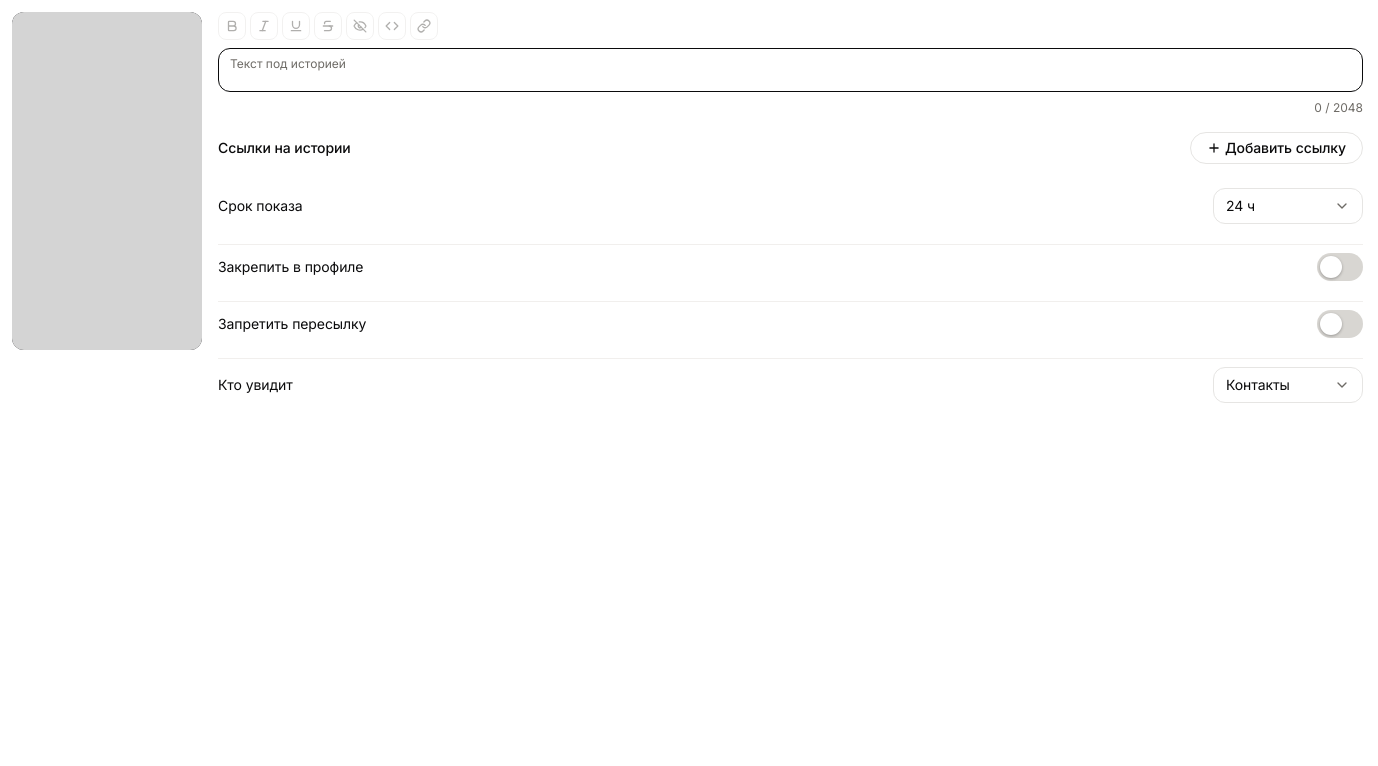
Scenario: stickers: add up to three, then the button stops
Click the button "Добавить ссылку".
click(1276, 148)  # box [1190,132,1363,164]
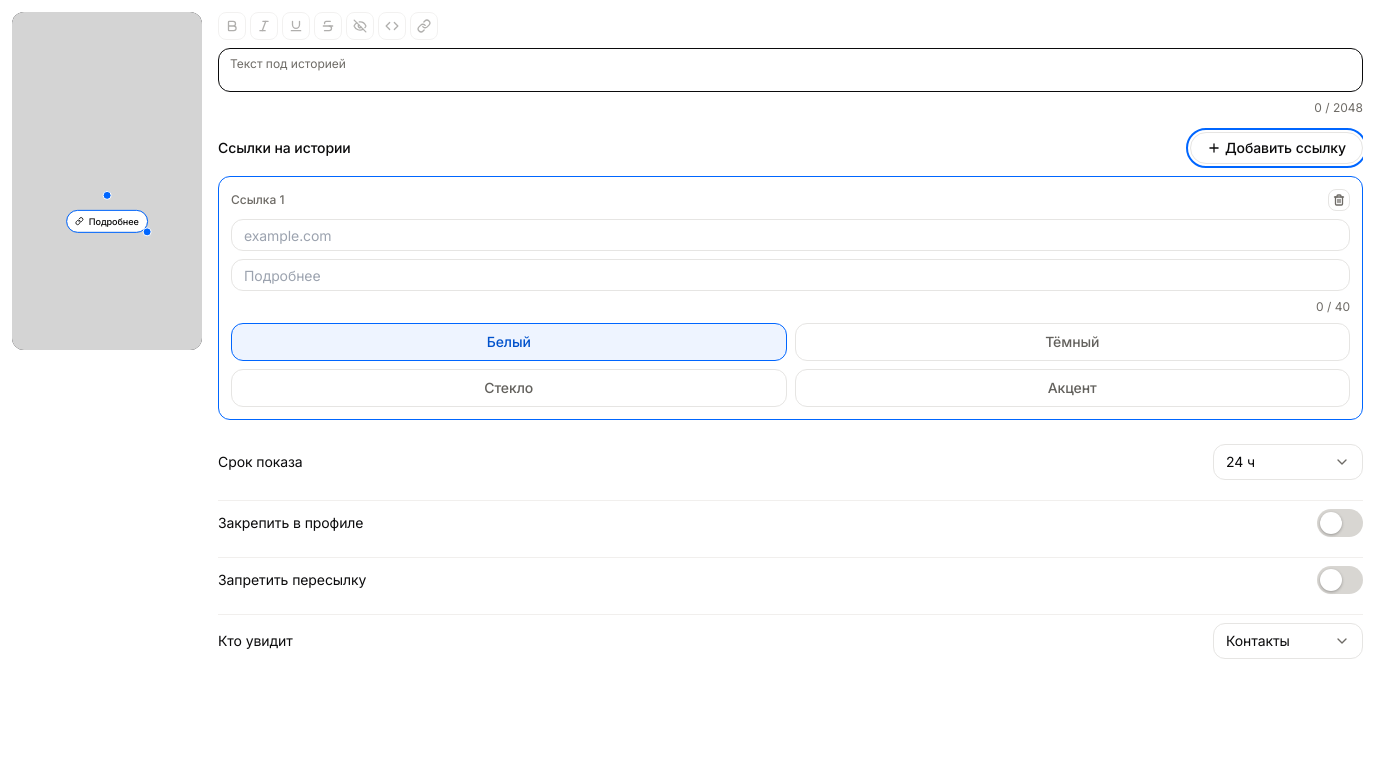
Click the button "Добавить ссылку".
click(1276, 148)  # box [1190,132,1363,164]
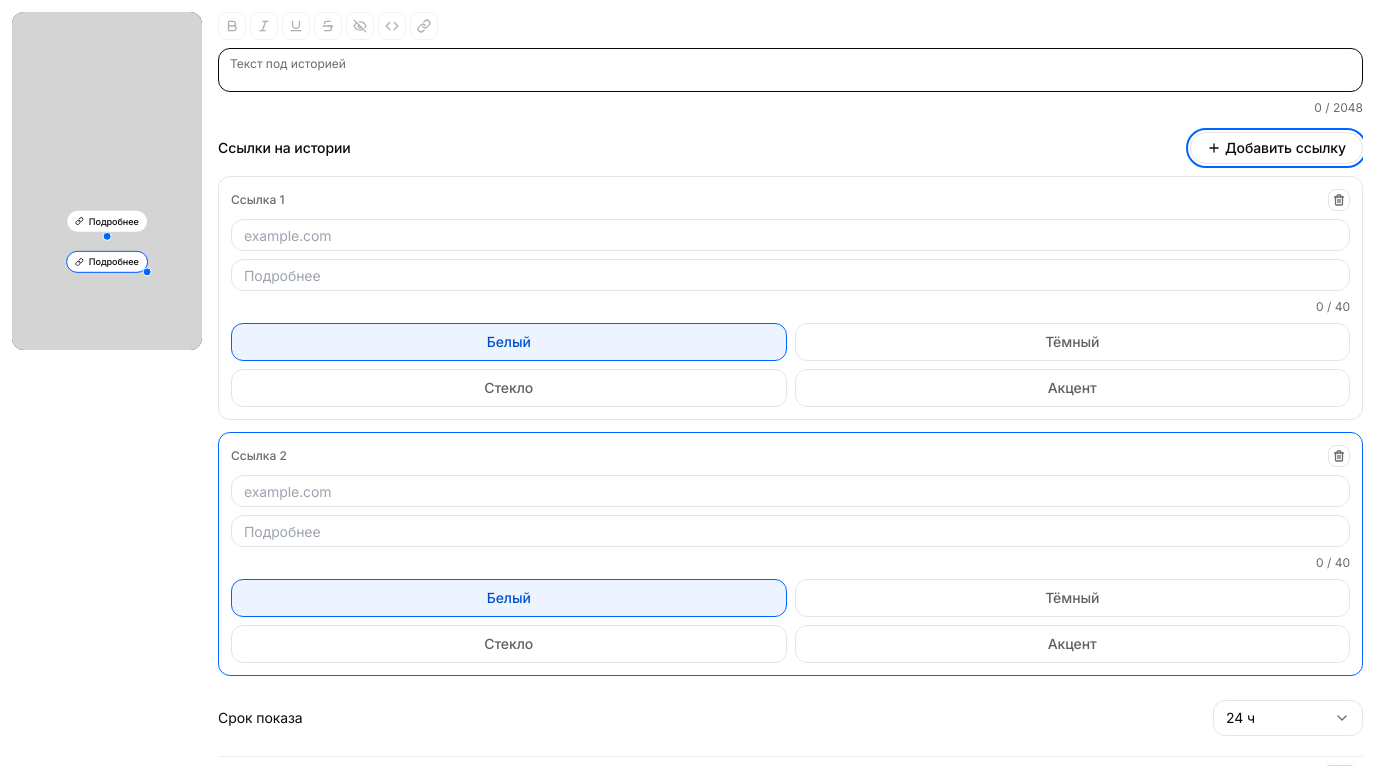
Click the button "Добавить ссылку".
click(1276, 148)  # box [1190,132,1363,164]
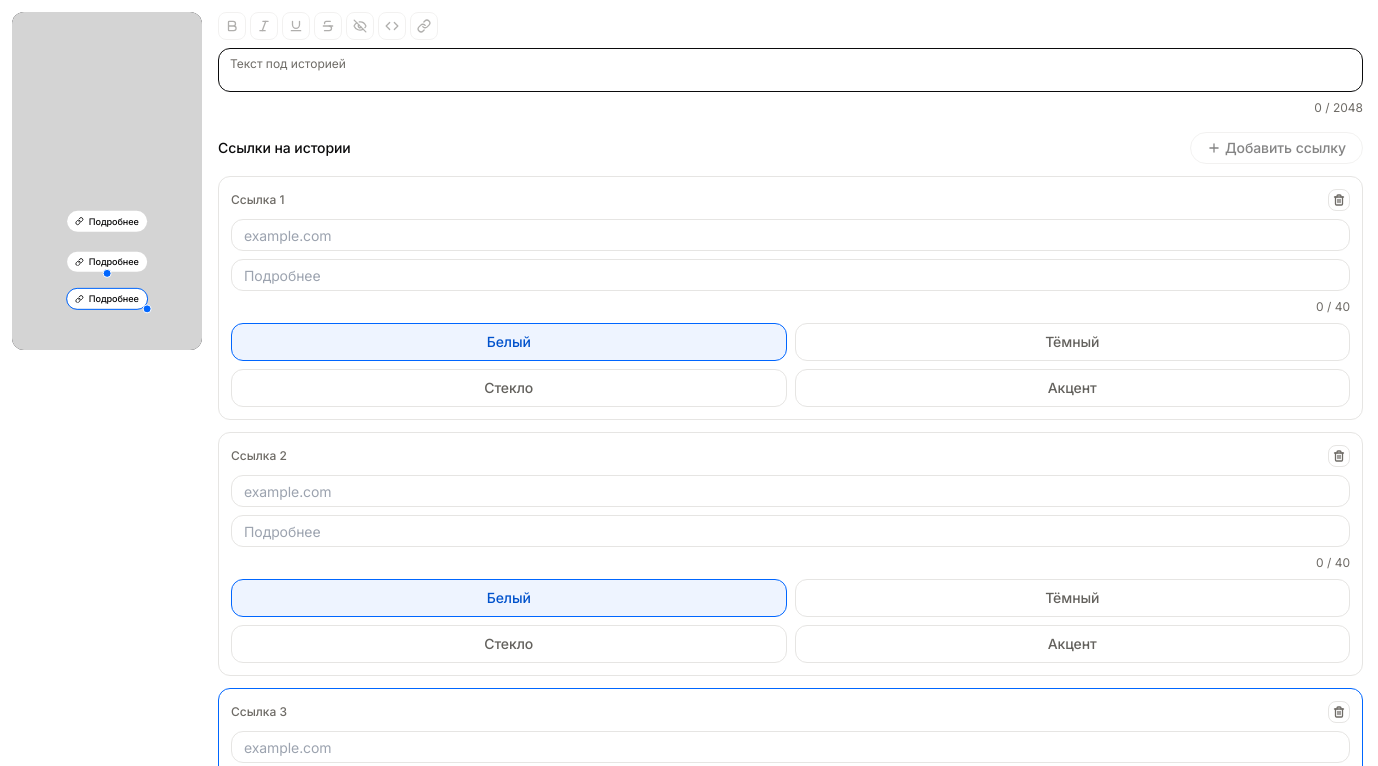
Now the button "Добавить ссылку" is disabled, box [1190,132,1363,164]
Now the number of buttons named "Ссылка:" is 3, box [67,211,147,232]; [67,252,147,272]; [67,289,147,309]
